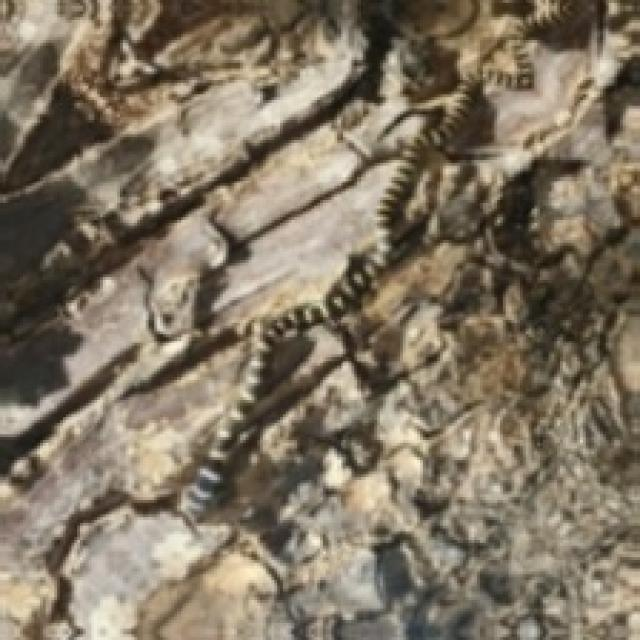paradise tree snake: (174, 0, 637, 637), (177, 80, 491, 517)
